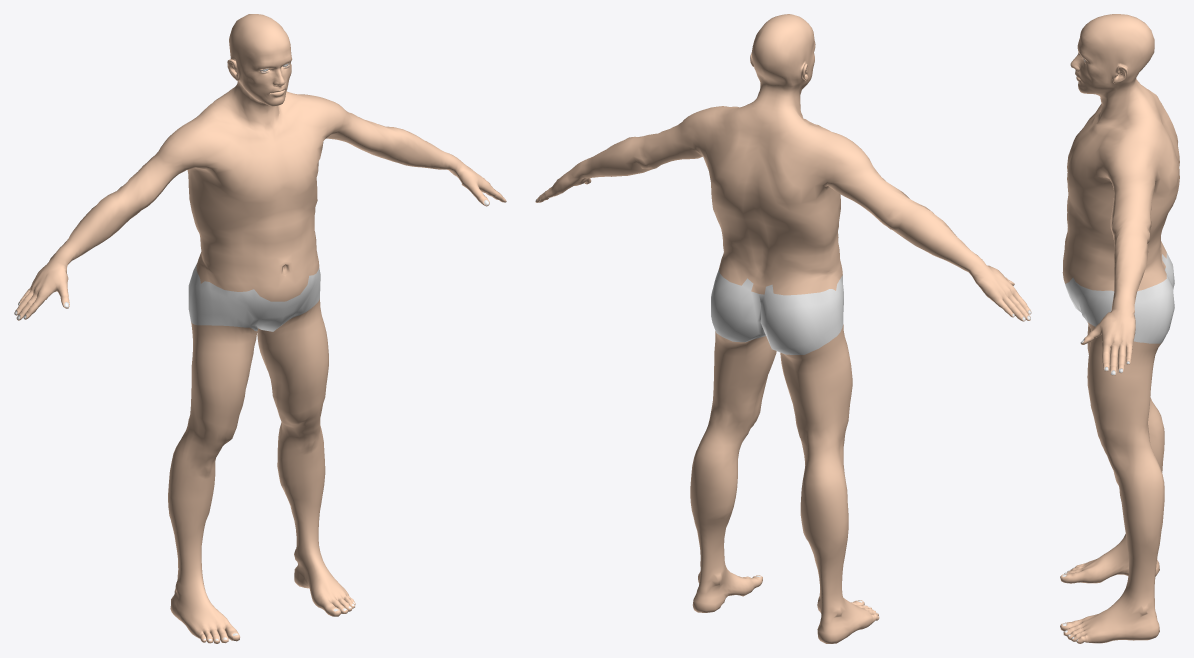
Rendered from Men_XL.glb.
The picture shows the model from 3 angles, left to right: view 1: azimuth 30°, elevation 25°; view 2: azimuth 150°, elevation 25°; view 3: azimuth 270°, elevation 25°; orthographic projection.
Visible parts, largest first — view 1: m_ca01; view 2: m_ca01; view 3: m_ca01.
Boxes of the visible parts, <box> form: m_ca01: <box>14,14,506,643</box>; m_ca01: <box>535,14,1031,643</box>; m_ca01: <box>1060,14,1179,643</box>.
Size of the model in its own units: 1.58 by 1.83 by 0.3372.
10 materials, 1 textured.
